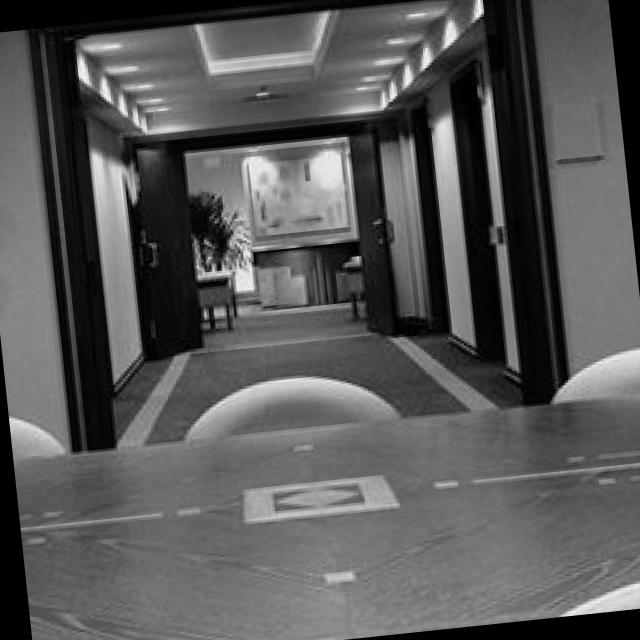ceiling beam: (80, 0, 484, 132)
chair -occluded-: (187, 375, 403, 437), (554, 345, 640, 398)
counter bottom: (252, 231, 365, 304)
door bars: (126, 143, 207, 356), (353, 123, 401, 332)
painting crop: (247, 144, 353, 236)
table -X: (20, 392, 640, 640)
